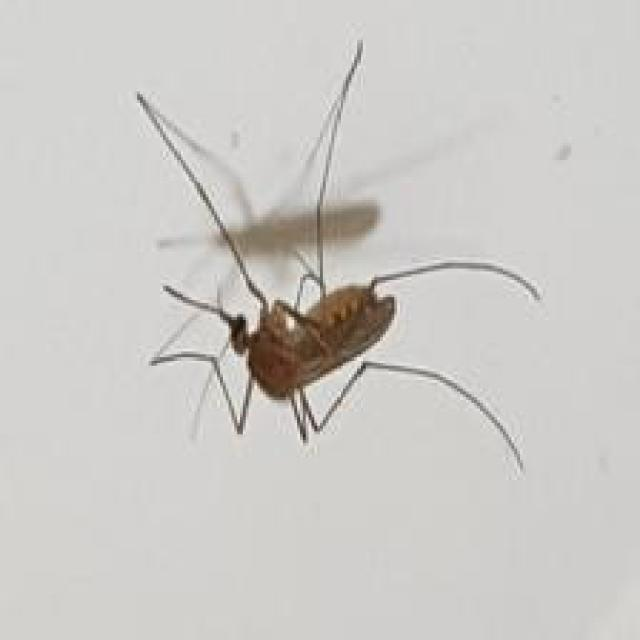Culex: (134, 37, 543, 477)
